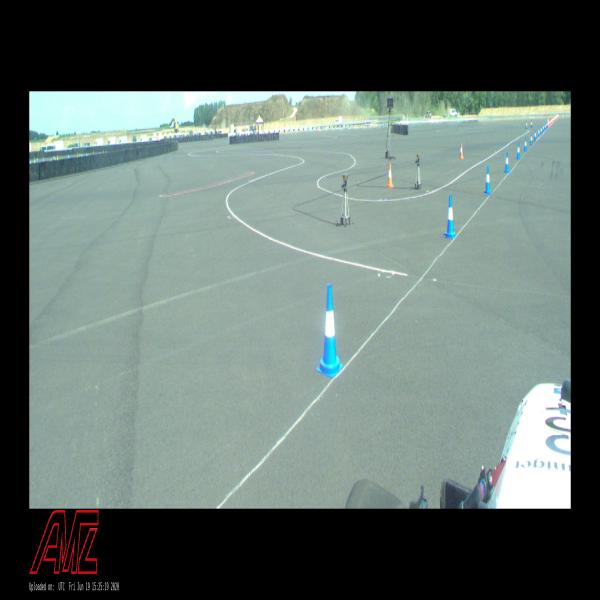blue_cone: (317, 283, 343, 378), (444, 195, 456, 239), (484, 166, 491, 194), (504, 152, 510, 173), (516, 143, 520, 159), (524, 138, 528, 151), (530, 133, 533, 145), (534, 130, 537, 141), (538, 128, 540, 137), (540, 126, 542, 134), (545, 123, 546, 130), (543, 125, 544, 132), (546, 122, 547, 128)
large_orange_cone: (547, 118, 549, 128)
orange_cone: (387, 163, 394, 188), (459, 144, 464, 159)
